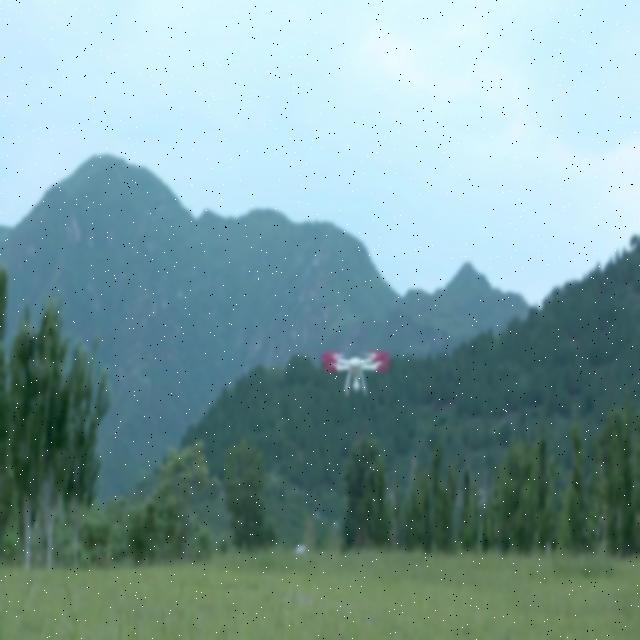UAV: (321, 351, 391, 397)
